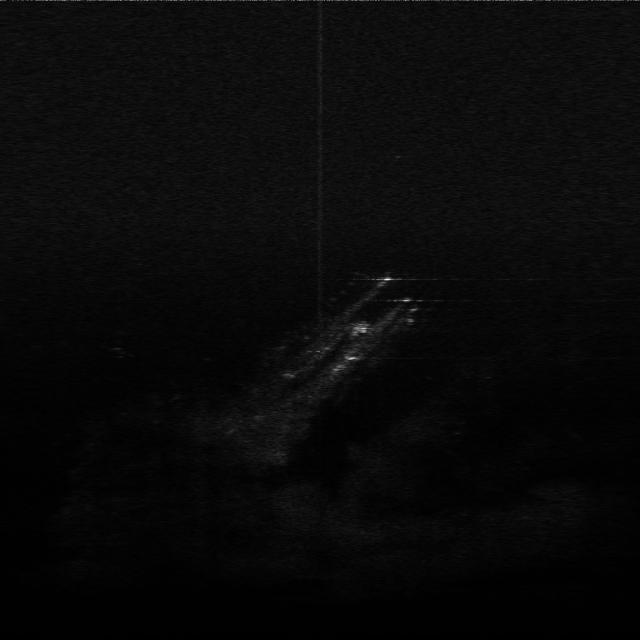rov: (343, 318, 378, 338)
